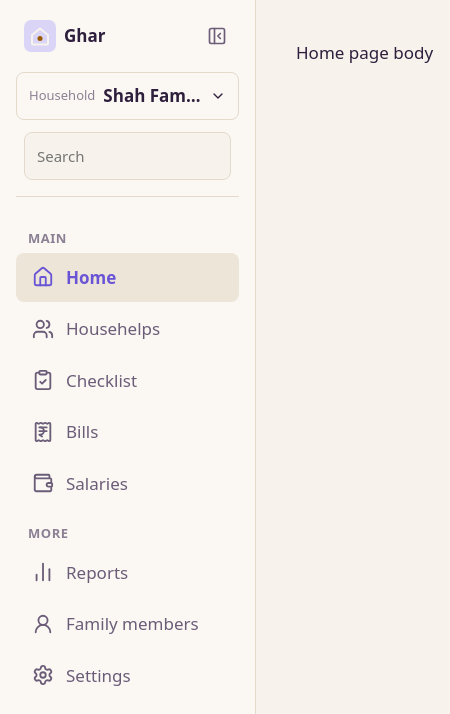
Test: AppShell › switches households from the sidebar switcher
Check: the text "Home page body" is shown, box x1=296 y1=41 x2=433 y2=64
Click the button "Household Shah Family" at (128, 96), box x1=16 y1=72 x2=239 y2=120
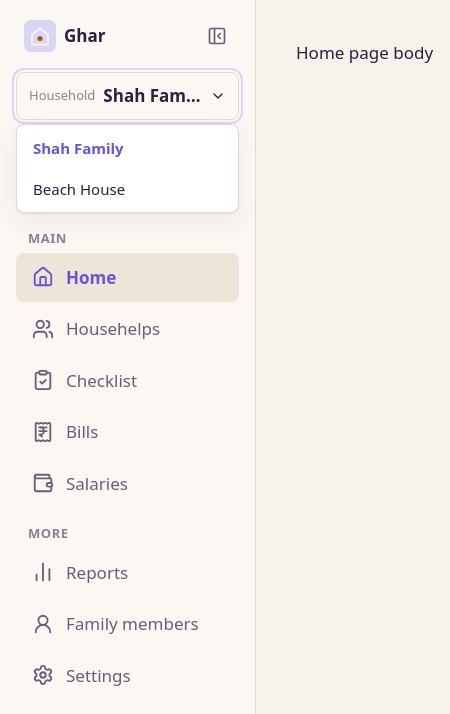
Click the menu item "Beach House" at (128, 189), box x1=21 y1=170 x2=234 y2=208
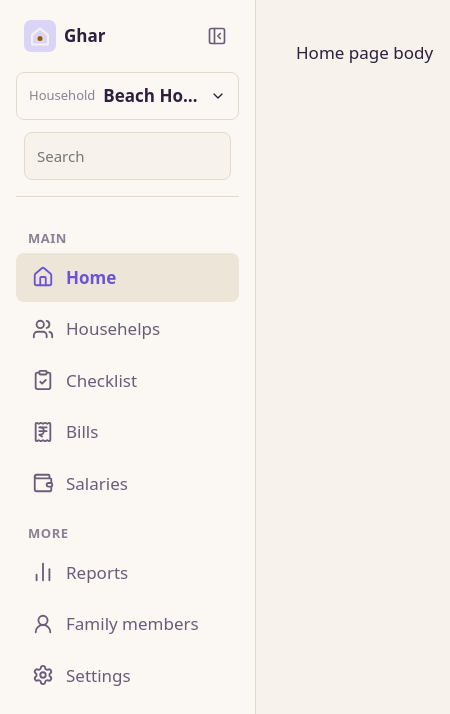
Check: the text "Beach House" is shown, box x1=103 y1=83 x2=202 y2=109
